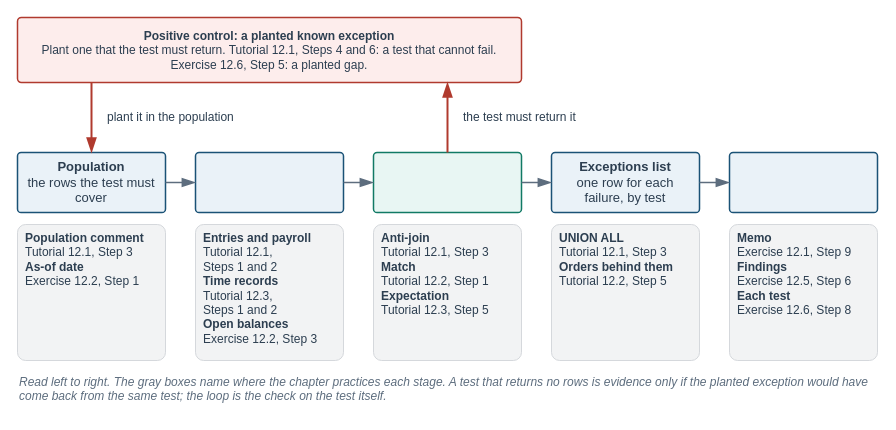
The diagram is 896 pixels wide and 430 high, and some of its shapes have lost their labels. The shapes that lost their labels are listed below. From the top down, each one's centre as x and y in pixels, then its label:
At pixel 269 182: "Reconcile and profile agree it with a second record".
At pixel 447 182: "Test anti-join, match or expectation".
At pixel 803 182: "Disposition explain, accept or follow up".
